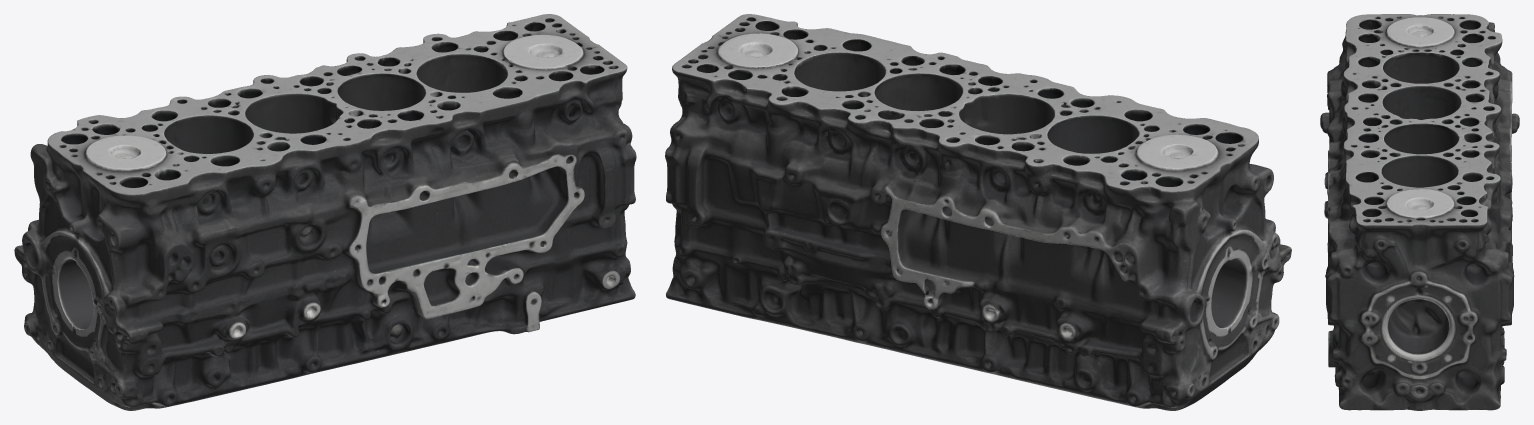
Rendered from motor-mitsubishi-6d34.glb.
3 renders of one model, left to right at view 1: azimuth 30°, elevation 25°; view 2: azimuth 150°, elevation 25°; view 3: azimuth 270°, elevation 25°, orthographic. The views are drawn at different scales.
Bounding box in the file's own units: 1.9 × 0.7928 × 0.7441.
Materials: 1 (1 with a texture image).
